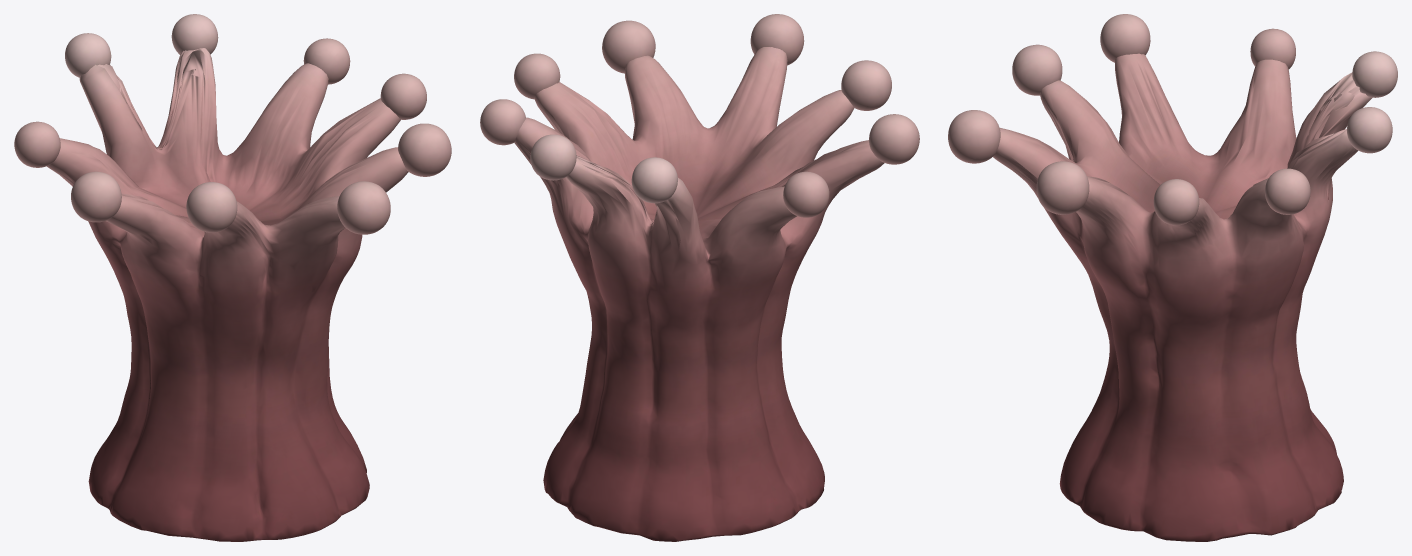
The model's file is polyp_normal.glb.
3 views of the same model, side by side, from view 1: azimuth 30°, elevation 25°; view 2: azimuth 150°, elevation 25°; view 3: azimuth 270°, elevation 25° (orthographic).
Parts seen in each view (by area): view 1: Polyp; view 2: Polyp; view 3: Polyp.
Boxes of the visible parts, bbox=[...] form: Polyp: bbox=[14, 14, 451, 541]; Polyp: bbox=[480, 14, 919, 541]; Polyp: bbox=[948, 14, 1397, 541].
Size of the model in its own units: 1.18 by 1.23 by 1.22.
1 material, 1 textured.
